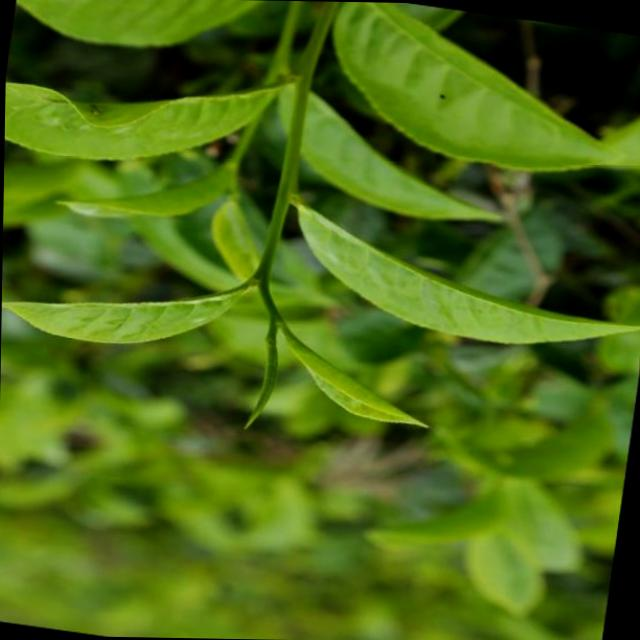Stem: (259, 257, 270, 268), (226, 157, 236, 166)
